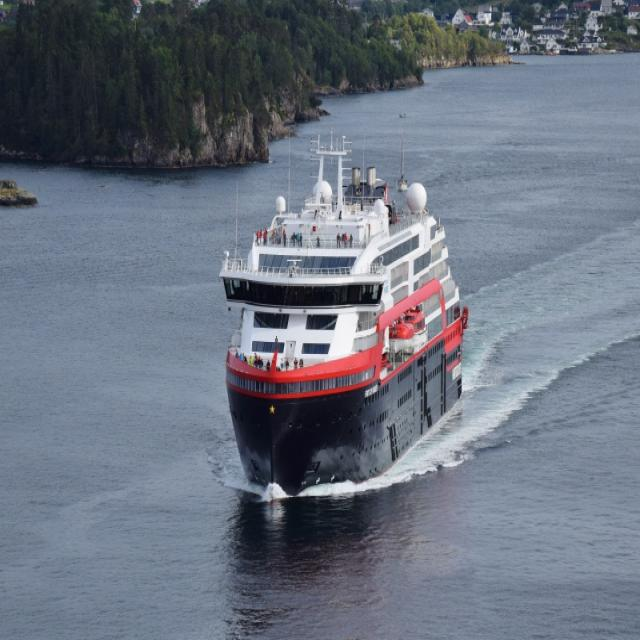cruises: (213, 129, 471, 518)
